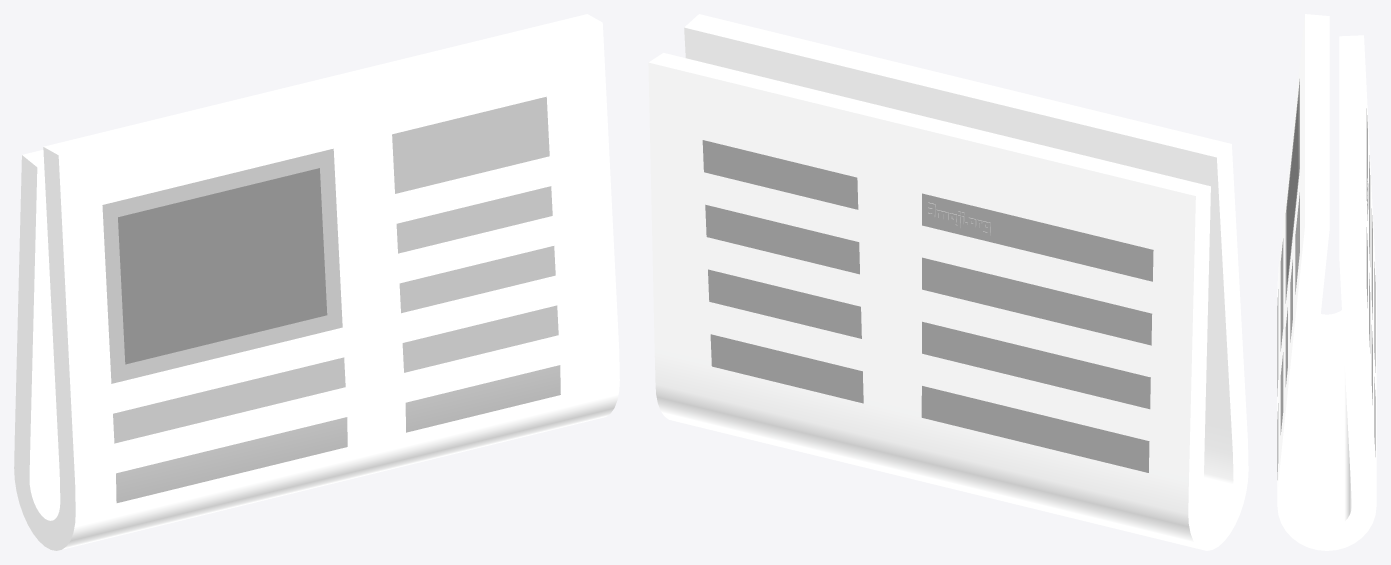
The model's file is newspaper.gltf.
3 views of the same model, side by side, from view 1: azimuth 30°, elevation 25°; view 2: azimuth 150°, elevation 25°; view 3: azimuth 270°, elevation 25° (orthographic). The views are drawn at different scales.
Visible parts, largest first — view 1: Cylinder.501; view 2: Cylinder.501; view 3: Cylinder.501.
Boxes of the visible parts, bbox=[...] form: Cylinder.501: bbox=[14, 14, 619, 550]; Cylinder.501: bbox=[648, 14, 1248, 550]; Cylinder.501: bbox=[1277, 14, 1376, 550].
Size of the model in its own units: 2.31 by 1.58 by 0.44.
Materials: 1 (1 with a texture image).
